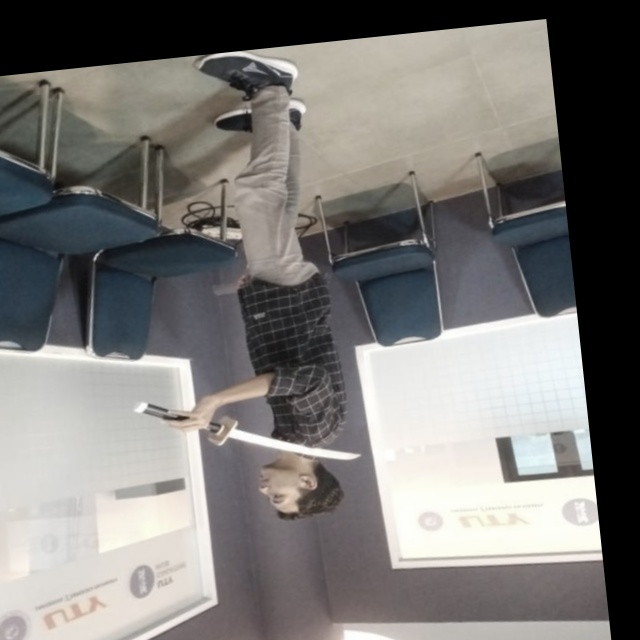Sharp-Object: (126, 381, 368, 486)
